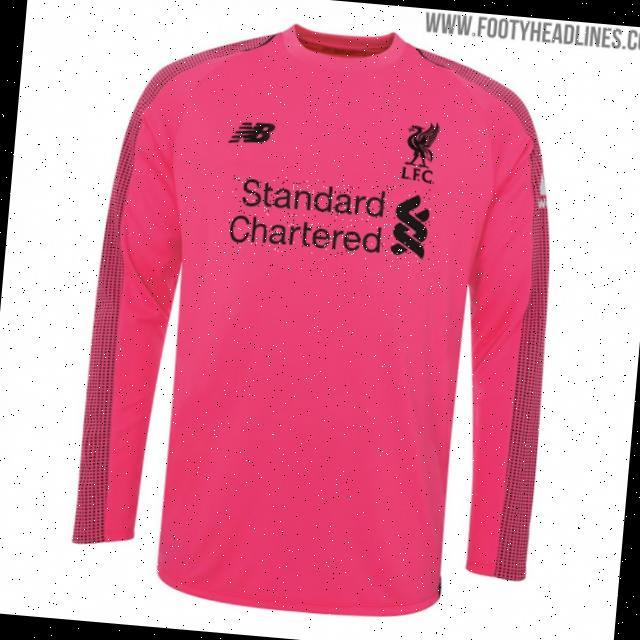Standard Chartered: (227, 172, 436, 264)
